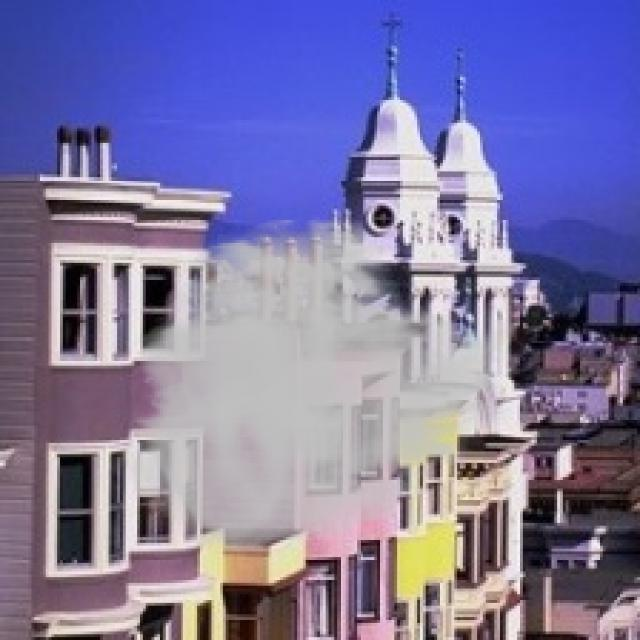smoke: (117, 214, 523, 557)
